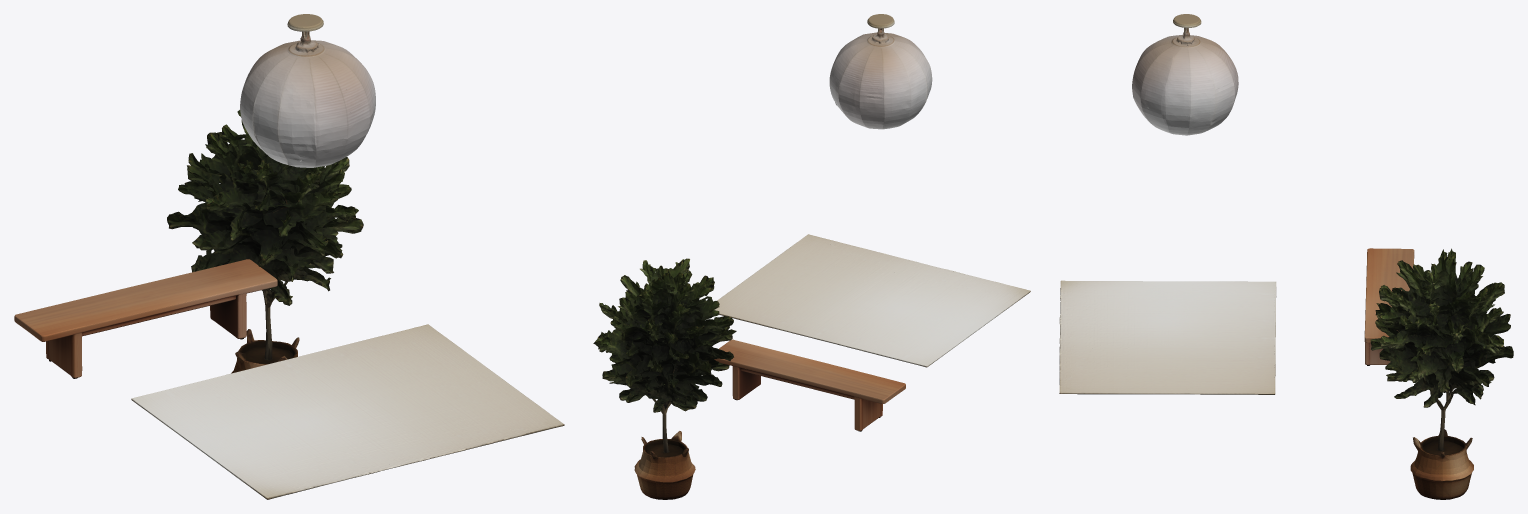
File: zen_room_combined.glb
3 views of the same model, side by side, from view 1: azimuth 30°, elevation 25°; view 2: azimuth 150°, elevation 25°; view 3: azimuth 270°, elevation 25° (orthographic). The views are drawn at different scales.
Visible parts, largest first — view 1: geometry_3, geometry_0, geometry_1, geometry_2; view 2: geometry_3, geometry_0, geometry_1, geometry_2; view 3: geometry_3, geometry_0, geometry_1, geometry_2.
Part boxes in pixels (x1=…): geometry_3: x1=131, y1=324, x2=564, y2=499; geometry_0: x1=167, y1=110, x2=363, y2=373; geometry_1: x1=240, y1=14, x2=375, y2=167; geometry_2: x1=14, y1=259, x2=277, y2=378; geometry_3: x1=714, y1=234, x2=1030, y2=367; geometry_0: x1=593, y1=258, x2=736, y2=499; geometry_1: x1=829, y1=14, x2=932, y2=129; geometry_2: x1=714, y1=339, x2=905, y2=431; geometry_3: x1=1059, y1=280, x2=1276, y2=394; geometry_0: x1=1370, y1=248, x2=1513, y2=499; geometry_1: x1=1132, y1=14, x2=1238, y2=135; geometry_2: x1=1364, y1=248, x2=1414, y2=365.
Bounding box in the file's own units: 1.34 × 1.96 × 1.9.
Materials: 4 (4 with a texture image).
